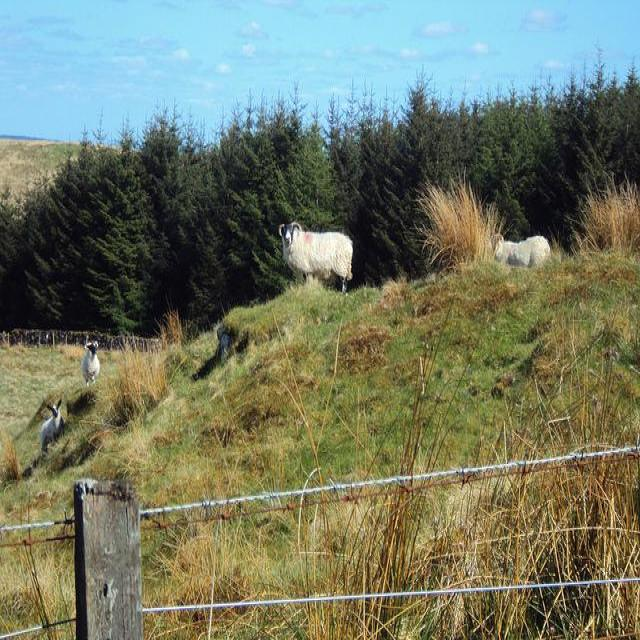Sheep: (276, 224, 355, 297)
